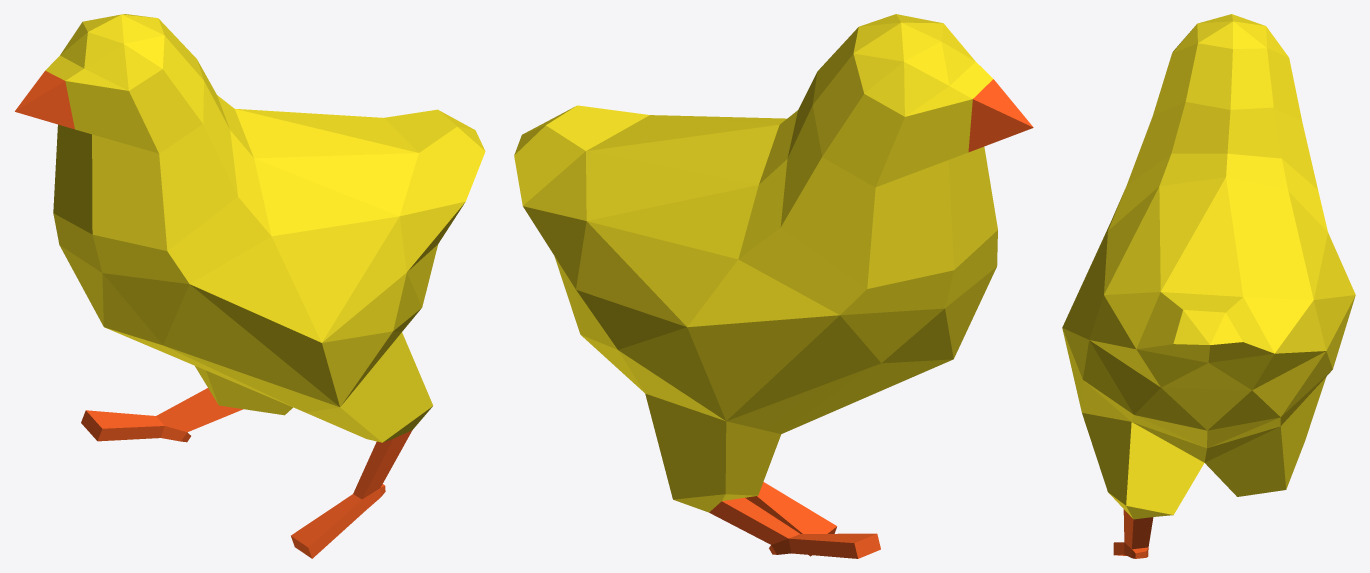
The model's file is chickWalking4.obj.
3 views of the same model, side by side, from view 1: azimuth 30°, elevation 25°; view 2: azimuth 150°, elevation 25°; view 3: azimuth 270°, elevation 25° (orthographic). The views are drawn at different scales.
Visible parts, largest first — view 1: Icosphere.001_Icosphere.002; view 2: Icosphere.001_Icosphere.002; view 3: Icosphere.001_Icosphere.002.
Boxes of the visible parts, x1,y1,x2,y2 form: Icosphere.001_Icosphere.002: (15, 14, 485, 558); Icosphere.001_Icosphere.002: (514, 14, 1033, 558); Icosphere.001_Icosphere.002: (1062, 14, 1355, 558).
Size of the model in its own units: 12.19 by 13.6 by 7.54.
